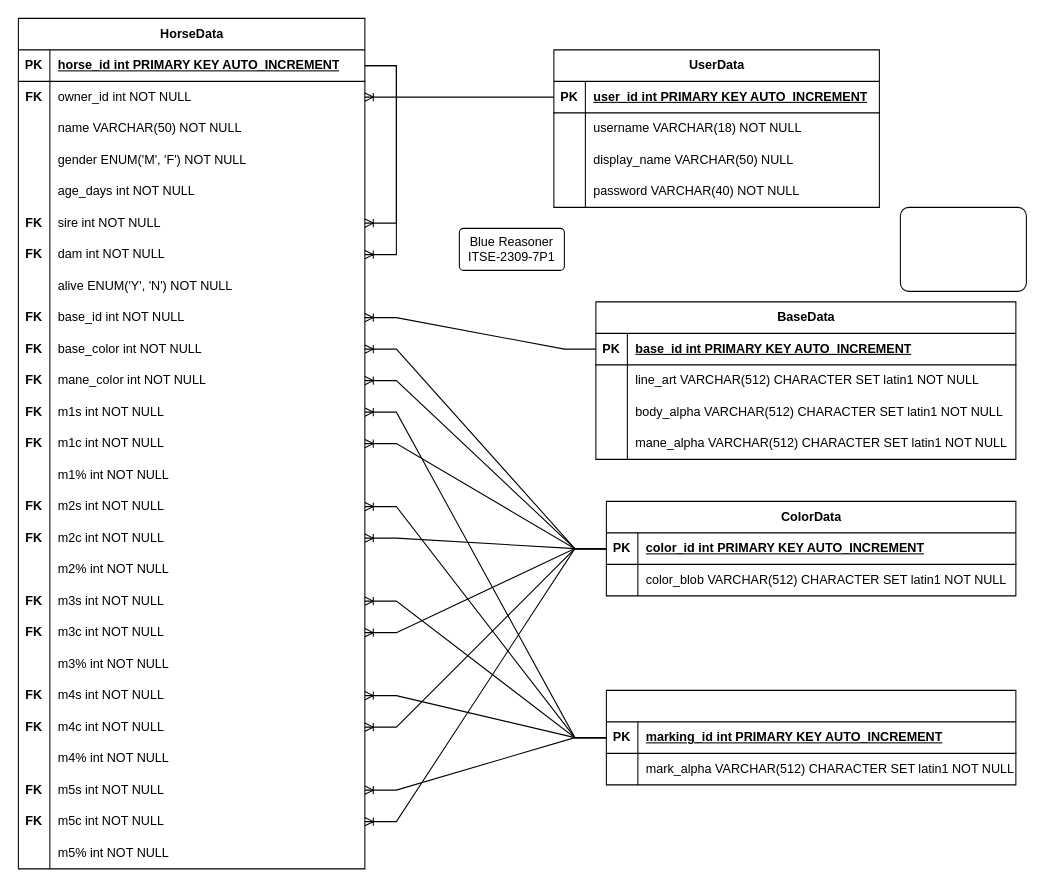
Image size: 1045x887. Some labels were removed from this diagram. The box of each missing label's shape, as (x1, y1, x2, y2) in pixels:
All Latin1 Charsets are for URLs to the images hosted on the server: (899, 206, 1026, 291)
MarkingData: (605, 689, 1016, 785)
